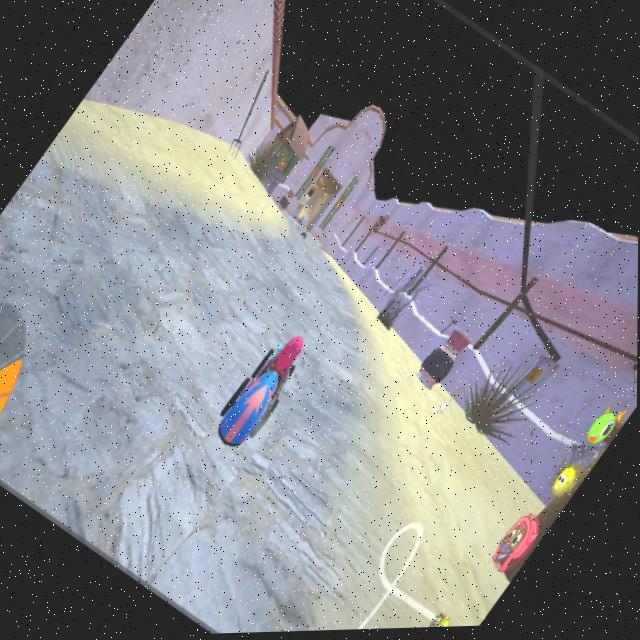off_track: (98, 63, 296, 240), (350, 351, 530, 511)
player_kart: (200, 325, 321, 466)
track: (225, 229, 368, 370)
